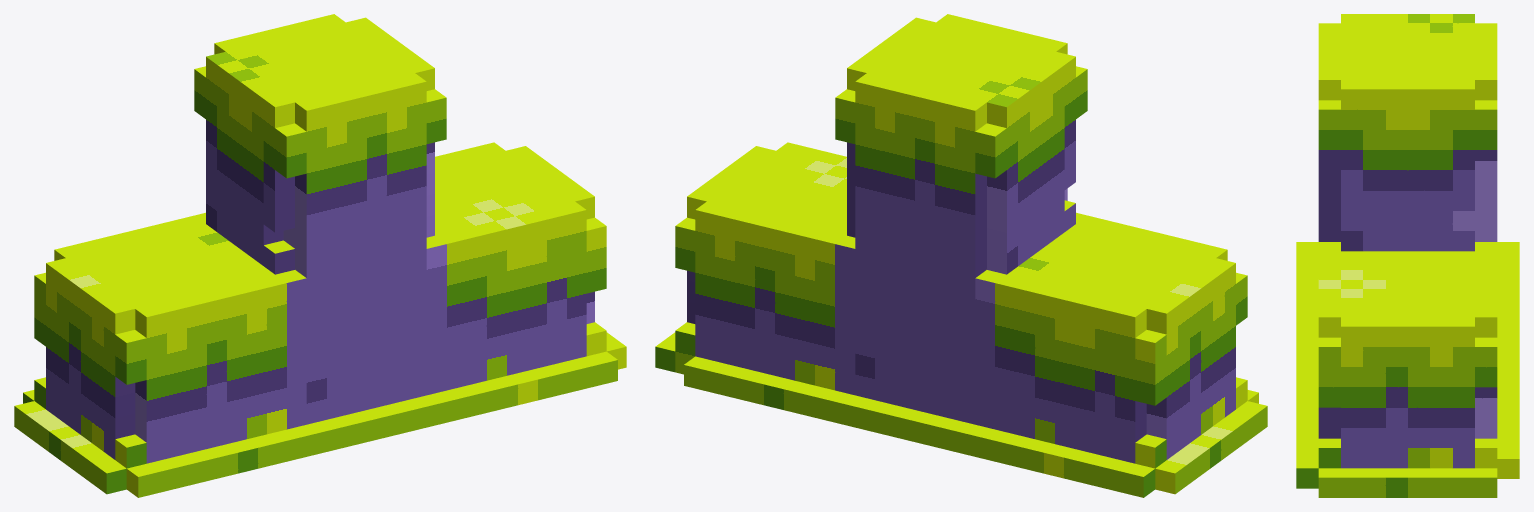
Rendered from zu_tao.fezao.glb.
3 renders of one model, left to right at view 1: azimuth 30°, elevation 25°; view 2: azimuth 150°, elevation 25°; view 3: azimuth 270°, elevation 25°, orthographic. The views are drawn at different scales.
Parts seen in each view (by area): view 1: ZU_TAO; view 2: ZU_TAO; view 3: ZU_TAO.
Boxes of the visible parts, x1=… form: ZU_TAO: x1=14, y1=14, x2=626, y2=497; ZU_TAO: x1=655, y1=14, x2=1267, y2=497; ZU_TAO: x1=1296, y1=14, x2=1519, y2=497.
Bounding box in the file's own units: 1.62 × 1 × 0.625.
Materials: 1 (1 with a texture image).
